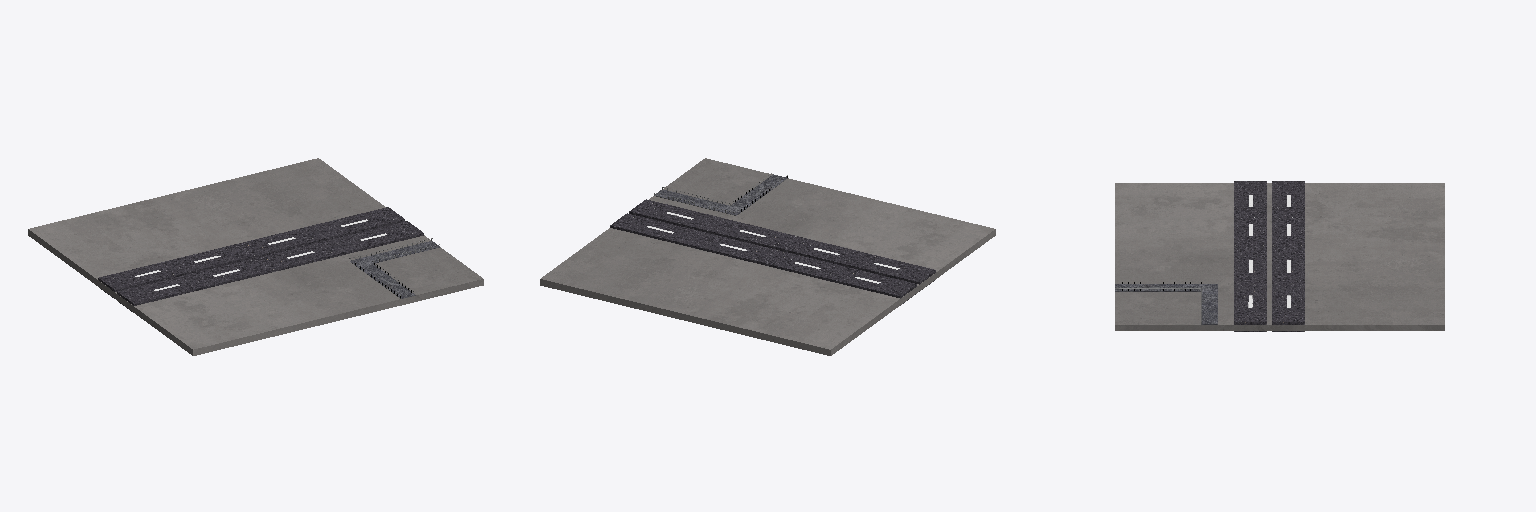
3 views of the same model, side by side, from view 1: azimuth 30°, elevation 25°; view 2: azimuth 150°, elevation 25°; view 3: azimuth 270°, elevation 25° (orthographic).
Parts seen in each view (by area): view 1: Street PathAndStreet Concrete, Street PathAndStreet pCube577, pCube485 Street PathAndStreet, PathAndStreet Path pCube509; view 2: Street PathAndStreet Concrete, pCube485 Street PathAndStreet, Street PathAndStreet pCube577, PathAndStreet Path pCube509; view 3: Street PathAndStreet Concrete, pCube485 Street PathAndStreet, Street PathAndStreet pCube577, PathAndStreet Path pCube509.
Boxes of the visible parts, x1=… form: Street PathAndStreet Concrete: x1=28, y1=158, x2=483, y2=355; Street PathAndStreet pCube577: x1=117, y1=221, x2=423, y2=311; pCube485 Street PathAndStreet: x1=98, y1=207, x2=404, y2=297; PathAndStreet Path pCube509: x1=350, y1=241, x2=439, y2=298; Street PathAndStreet Concrete: x1=540, y1=158, x2=995, y2=355; pCube485 Street PathAndStreet: x1=610, y1=213, x2=916, y2=305; Street PathAndStreet pCube577: x1=629, y1=199, x2=935, y2=291; PathAndStreet Path pCube509: x1=655, y1=174, x2=787, y2=215; Street PathAndStreet Concrete: x1=1115, y1=183, x2=1444, y2=330; pCube485 Street PathAndStreet: x1=1272, y1=181, x2=1304, y2=331; Street PathAndStreet pCube577: x1=1234, y1=181, x2=1266, y2=331; PathAndStreet Path pCube509: x1=1115, y1=284, x2=1217, y2=324.
Bounding box in the file's own units: 120 × 3.99 × 118.
Materials: 1 (1 with a texture image).